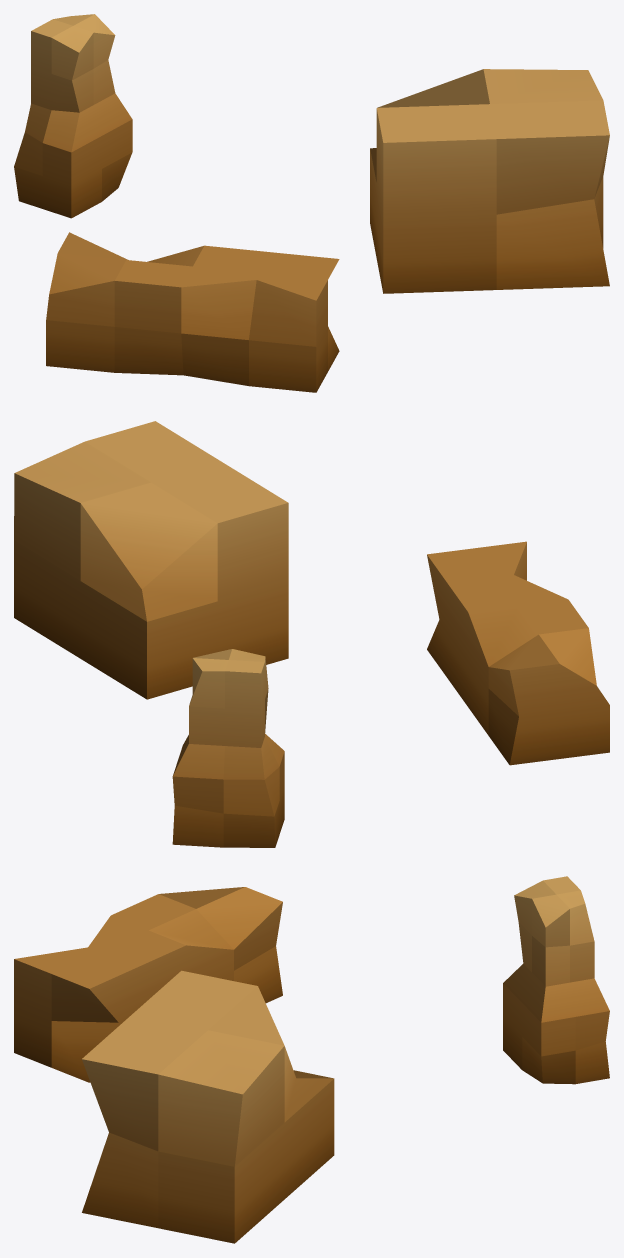
File: ruins_06.fbx
3 renders of one model, top to bottom at view 1: azimuth 30°, elevation 25°; view 2: azimuth 150°, elevation 25°; view 3: azimuth 270°, elevation 25°, orthographic. The views are drawn at different scales.
Parts seen in each view (by area): view 1: ruins_06; view 2: ruins_06; view 3: ruins_06.
Boxes of the visible parts, <box> form: ruins_06: <box>14,14,609,392</box>; ruins_06: <box>14,421,609,847</box>; ruins_06: <box>14,876,609,1243</box>.
Bounding box in the file's own units: 184 × 51.81 × 165.
